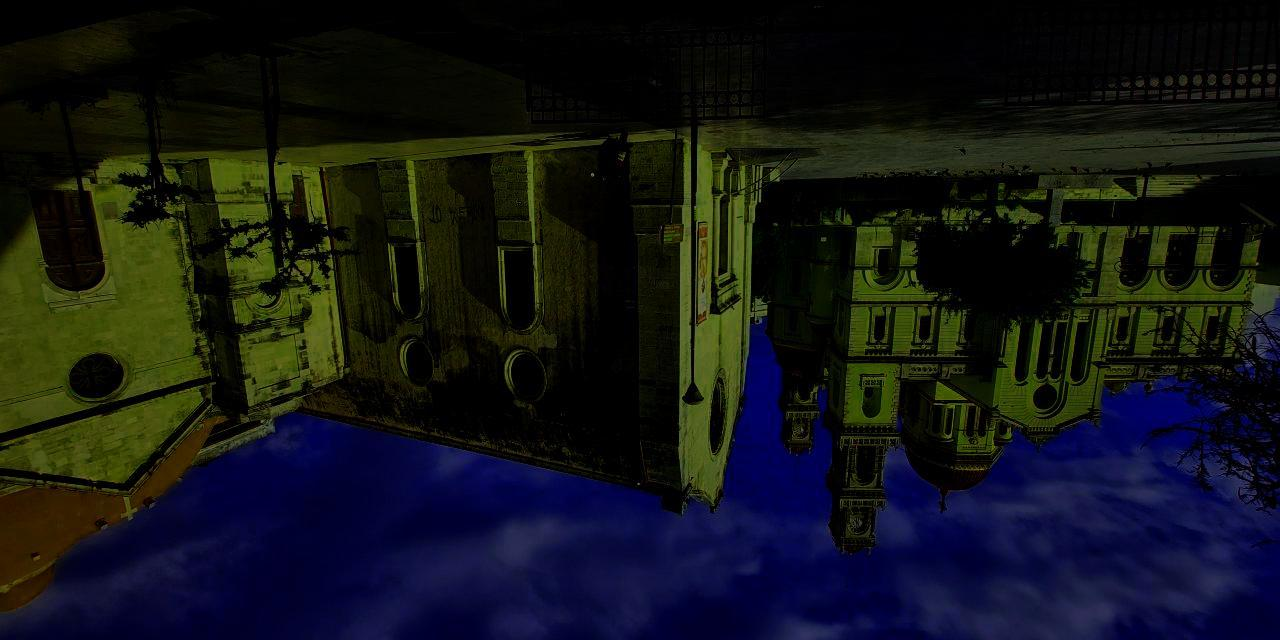Agia Aikaterini: (5, 126, 764, 617)
